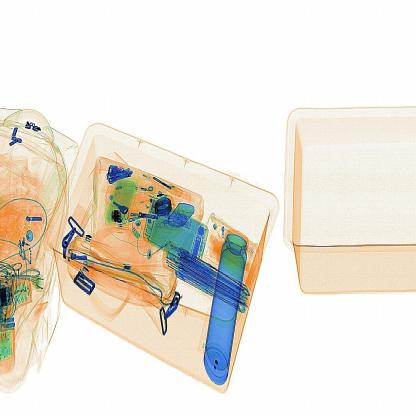scissors: (108, 204, 137, 233)
